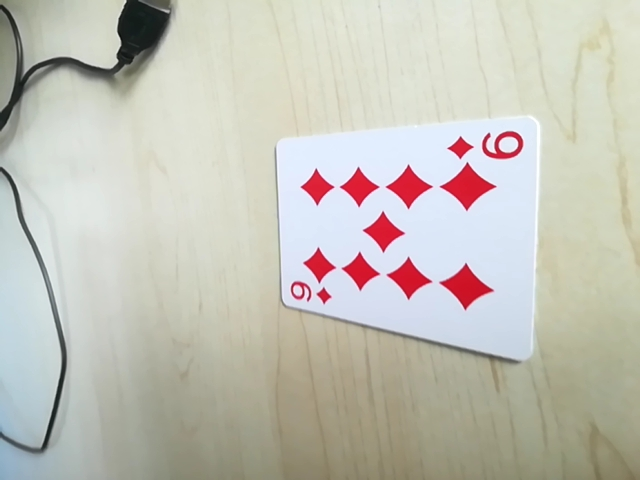fk 9: (447, 123, 530, 167), (284, 278, 336, 310)
